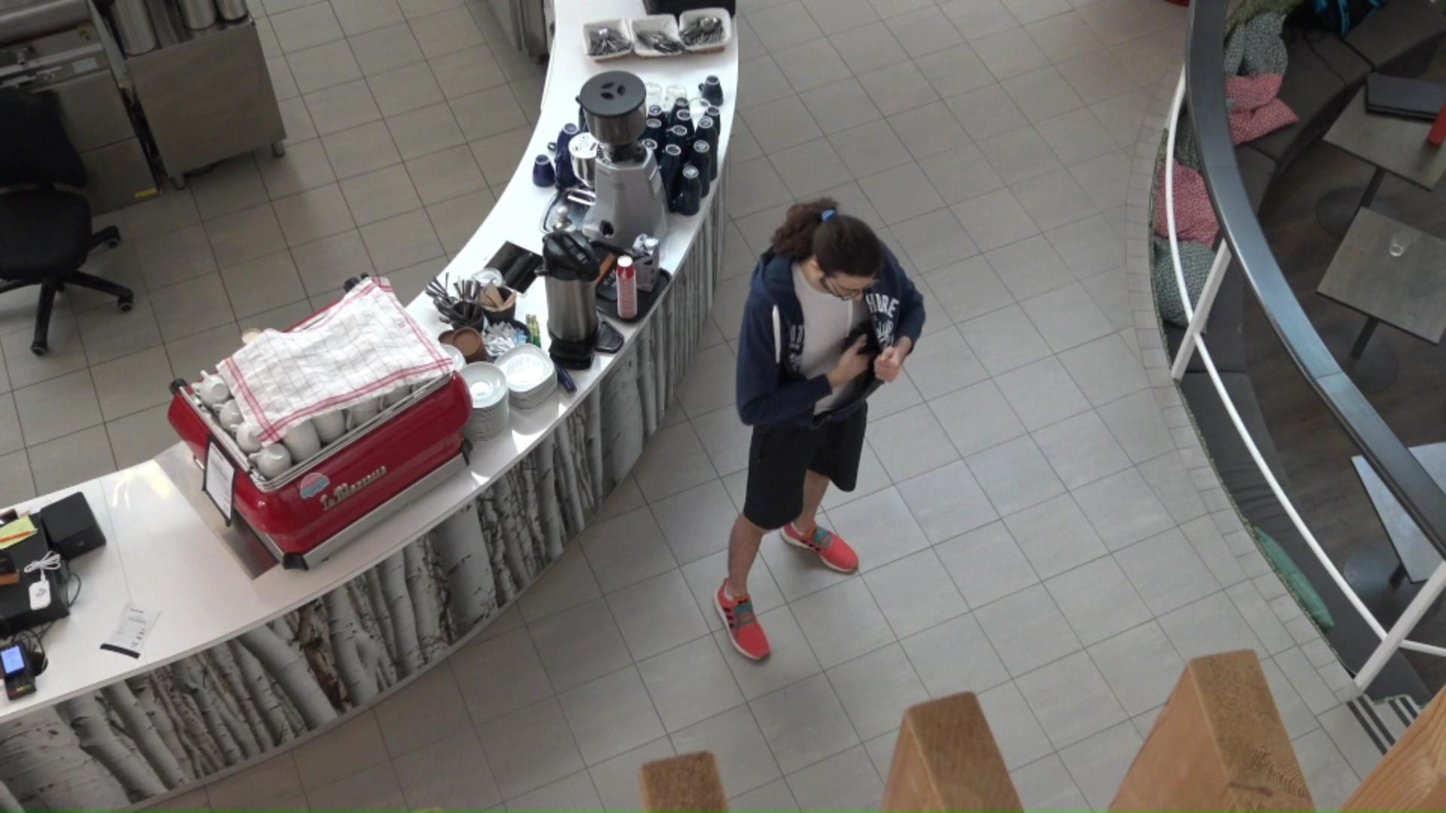shoplifting: (721, 196, 921, 661)
